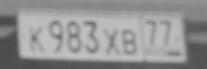license-plateSW: (17, 9, 187, 64)
